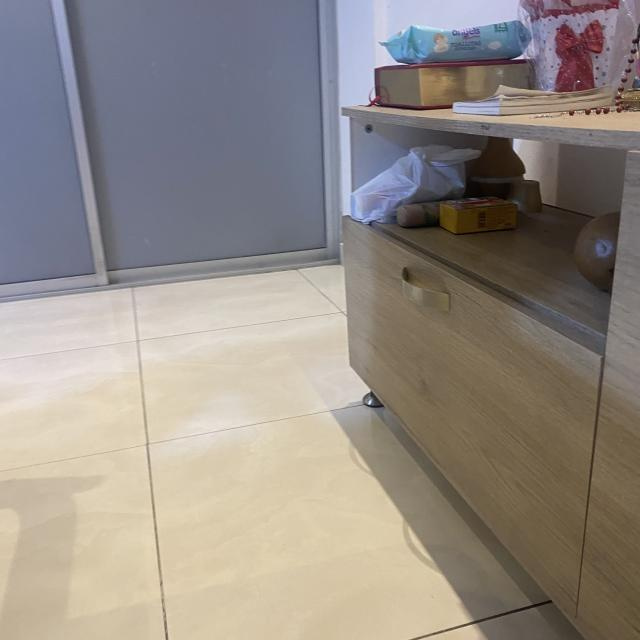door: (7, 0, 377, 299)
obstacle: (336, 90, 636, 620)
